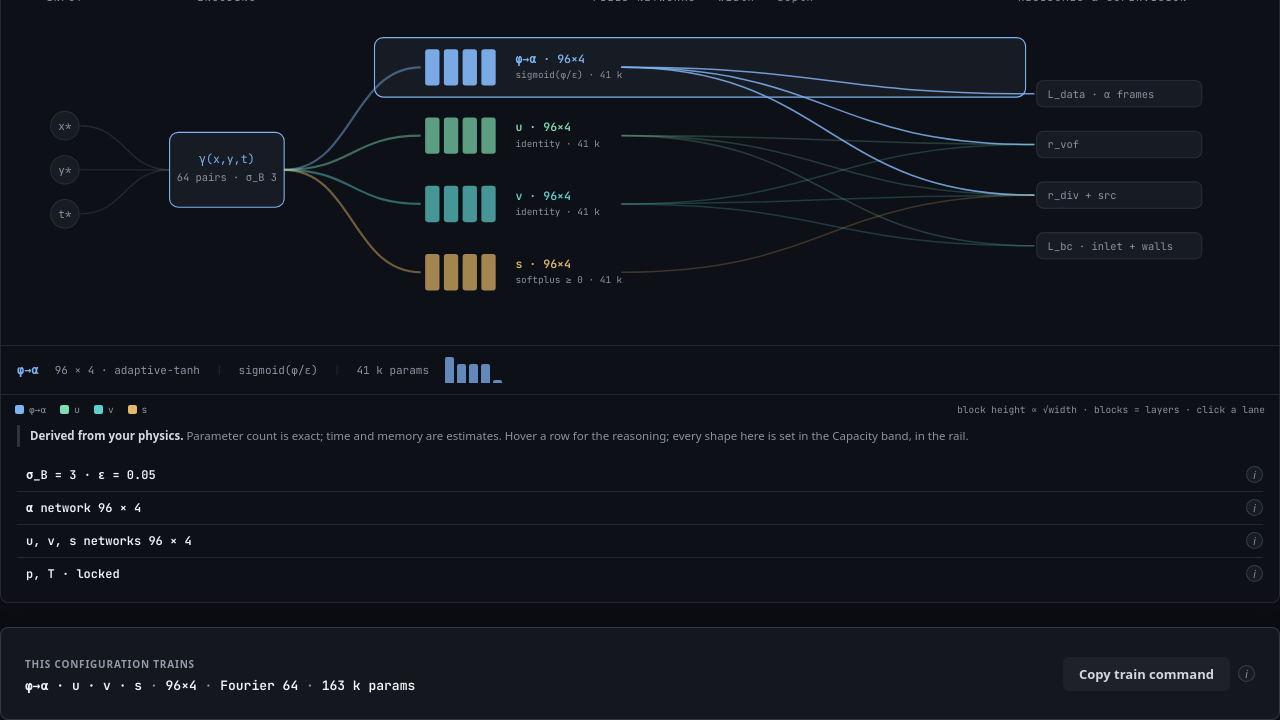
it: PhysicsModelView › sets the physics in the aside and derives everything on the canvas
(page scrolled)
Click the button named "The exact command" at (1246, 674), box 1238,665 -> 1255,682
(page scrolled)
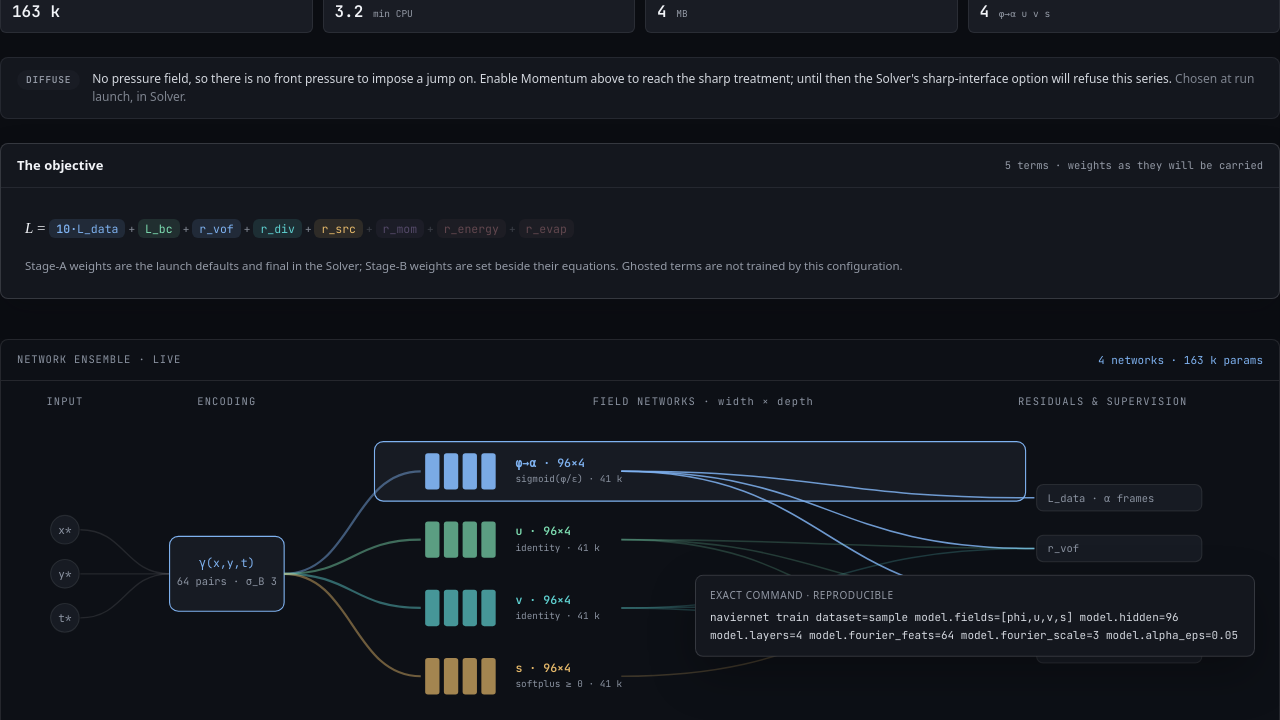
Check: the text "4 networks · 163 k params" is shown, box 1098,352 -> 1263,368
Check: the text "naviernet train dataset=sample" is shown, box 710,610 -> 1238,641
